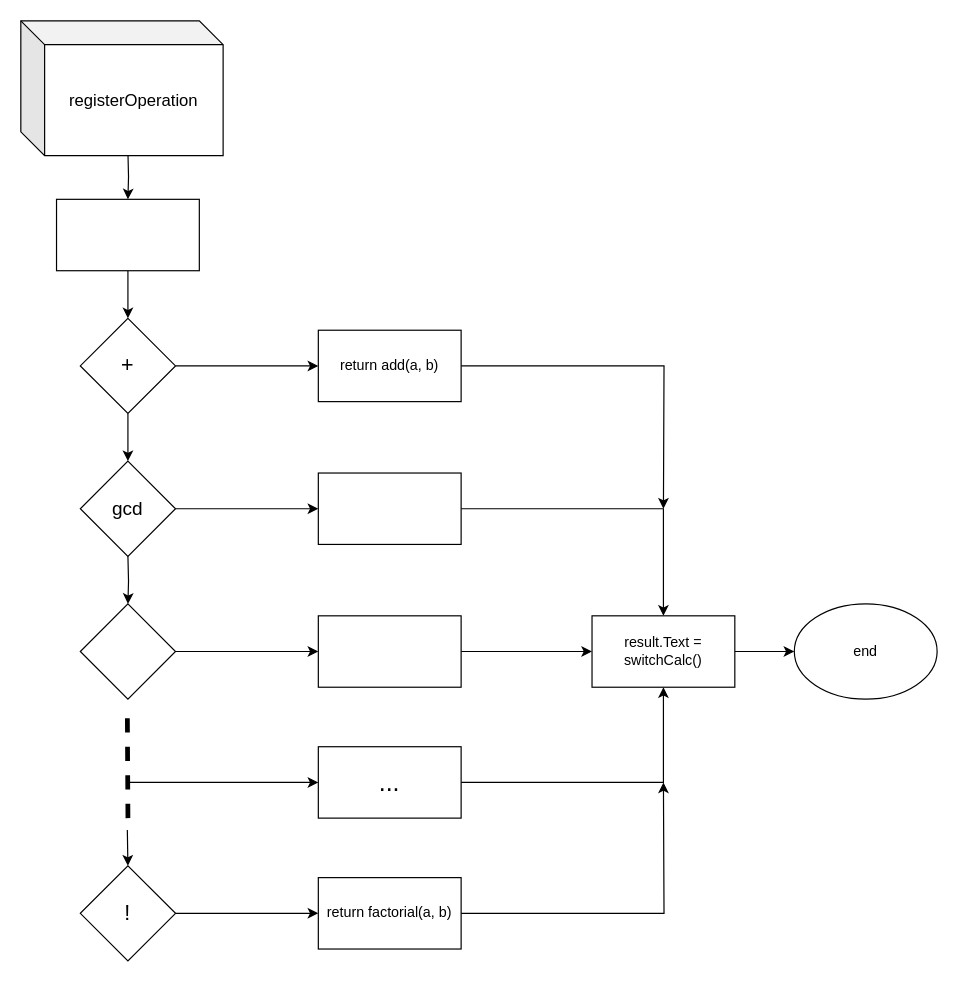
Some shapes in this 958 by 982 pixel diagram are drawn without their labels. Here are the shapes that lost their labels. From the top down, the centre of each, then its label:
At (127,234): "Switch (chosenOperator)".
At (389,508): "return gcd(a, b)".
At (127,651): "log".
At (389,651): "return log(a, b)".
